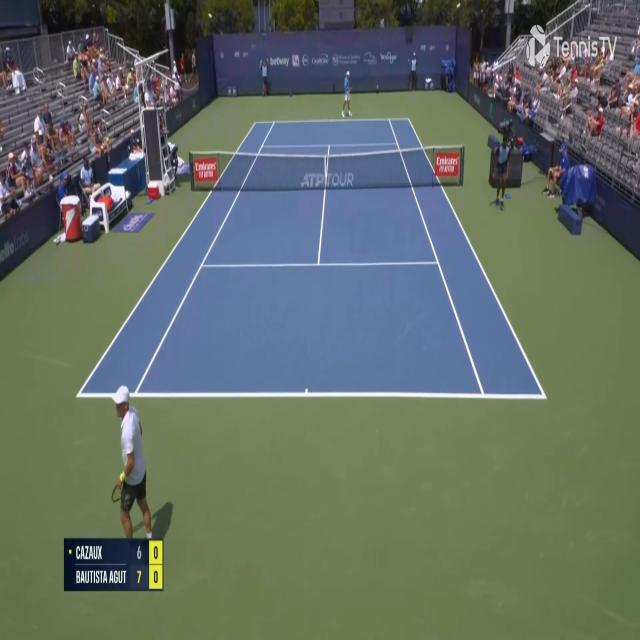tennis-player: (109, 380, 170, 544), (341, 68, 353, 120)
